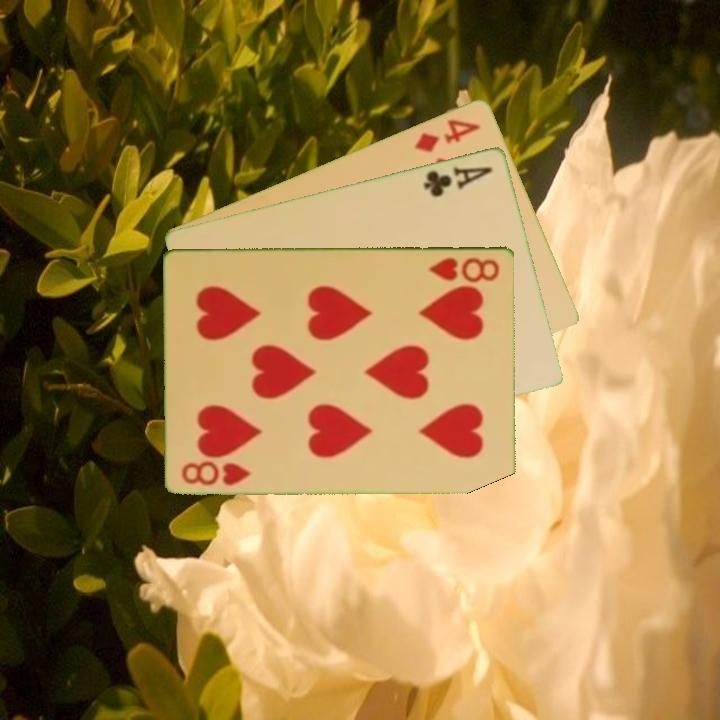4d: (410, 115, 483, 155)
8h: (179, 457, 254, 488), (426, 254, 502, 284)
Ac: (420, 162, 496, 200)
